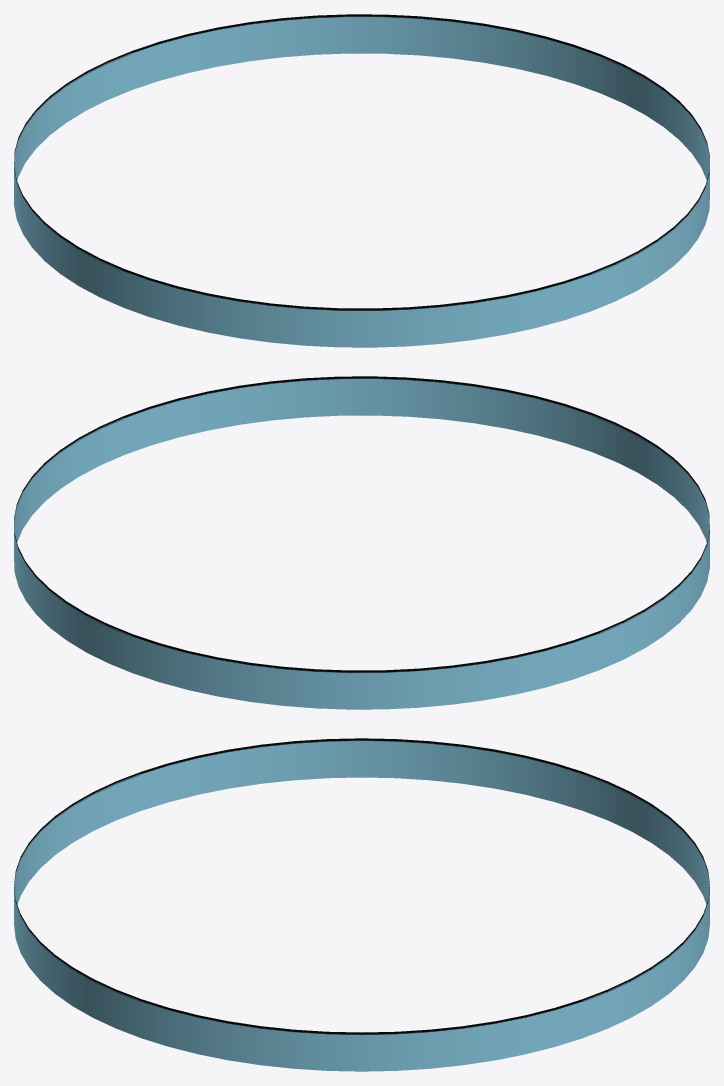
The model's file is Common_CircleBarrier_Mesh.fbx.
3 renders of one model, top to bottom at view 1: azimuth 30°, elevation 25°; view 2: azimuth 150°, elevation 25°; view 3: azimuth 270°, elevation 25°, orthographic.
Parts seen in each view (by area): view 1: Cylinder; view 2: Cylinder; view 3: Cylinder.
Part boxes in pixels (bbox=[...]): Cylinder: bbox=[14, 14, 709, 347]; Cylinder: bbox=[14, 376, 709, 709]; Cylinder: bbox=[14, 738, 709, 1071].
Size of the model in its own units: 200 by 12.41 by 200.
